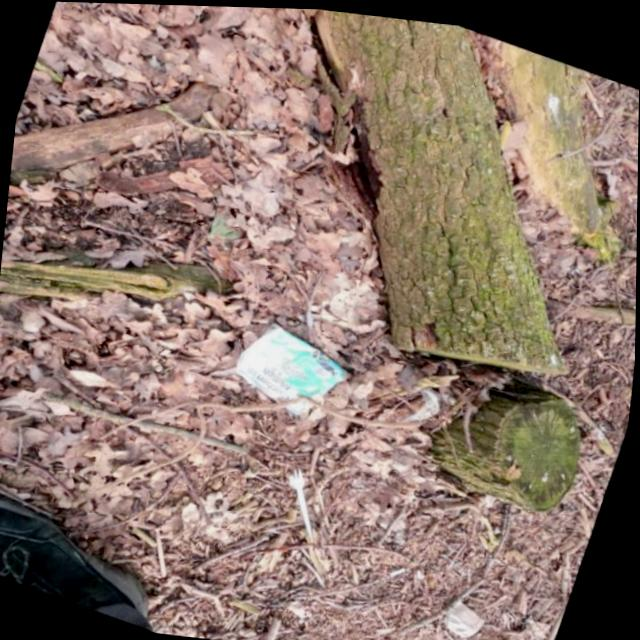Paper: (230, 312, 356, 419)
